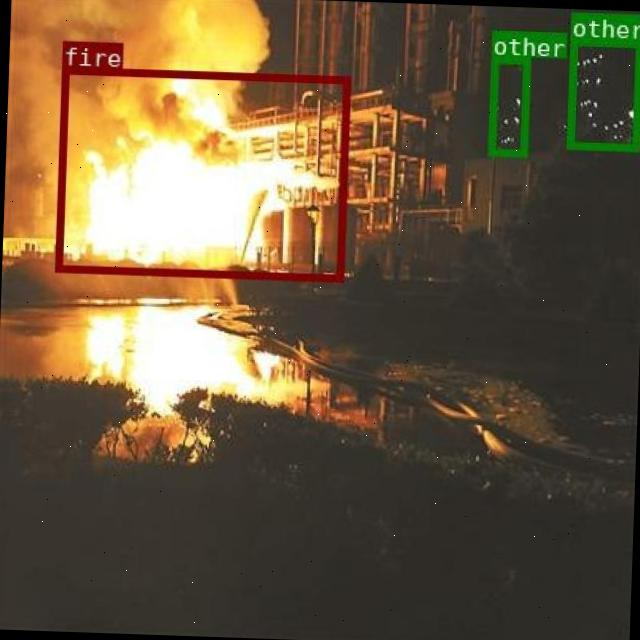fire: (54, 66, 348, 281)
